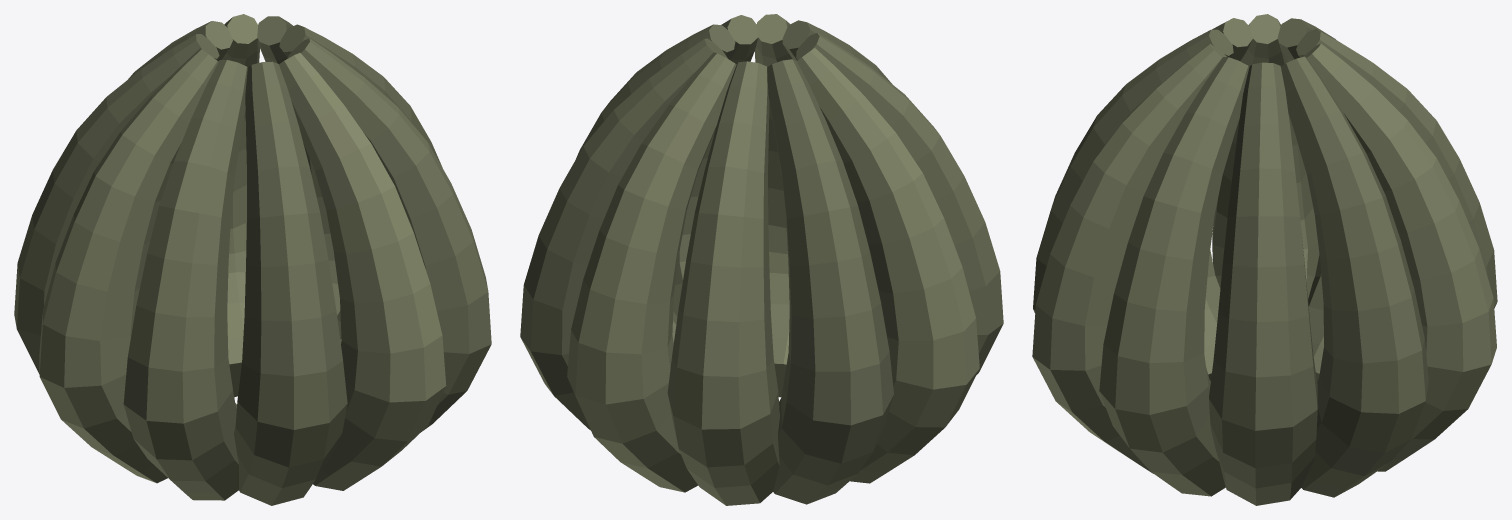
Rendered from strange_ventlung.glb.
The picture shows the model from 3 angles, left to right: view 1: azimuth 30°, elevation 25°; view 2: azimuth 150°, elevation 25°; view 3: azimuth 270°, elevation 25°; orthographic projection.
Parts seen in each view (by area): view 1: strange_ventlung; view 2: strange_ventlung; view 3: strange_ventlung.
Part boxes in pixels (x1,y1,x2,y2): strange_ventlung: [14, 14, 491, 505]; strange_ventlung: [520, 14, 1003, 505]; strange_ventlung: [1032, 14, 1497, 505].
Bounding box in the file's own units: 1.16 × 1.1 × 1.12.
